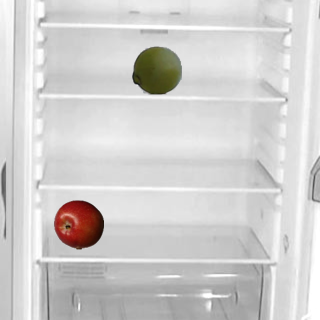Apple Braeburn: (53, 199, 103, 249)
Grape White 4: (131, 44, 181, 94)
